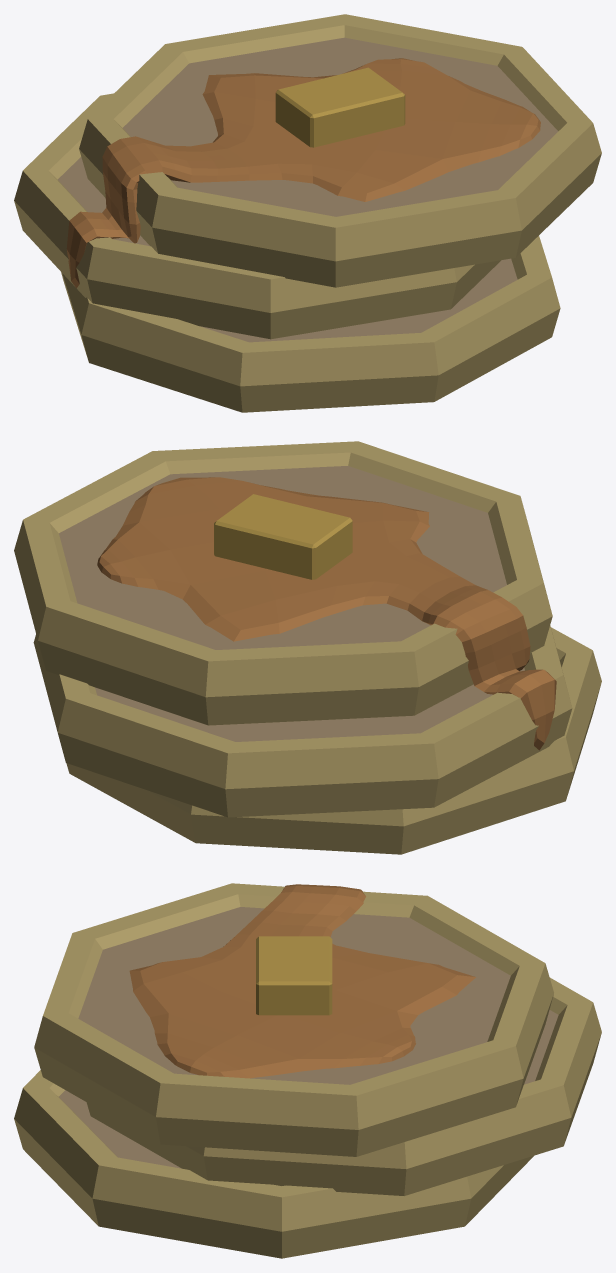
Rendered from Pancakes Stack.glb.
3 views of the same model, one above another, from view 1: azimuth 30°, elevation 25°; view 2: azimuth 150°, elevation 25°; view 3: azimuth 270°, elevation 25° (orthographic). The views are drawn at different scales.
Visible parts, largest first — view 1: Pancakes_Stack.001; view 2: Pancakes_Stack.001; view 3: Pancakes_Stack.001.
Boxes of the visible parts, left/top/right/bottom form: Pancakes_Stack.001: left=14, top=14, right=601, bottom=412; Pancakes_Stack.001: left=14, top=441, right=601, bottom=854; Pancakes_Stack.001: left=14, top=883, right=601, bottom=1258.
Bounding box in the file's own units: 1.26 × 0.5099 × 1.3.
